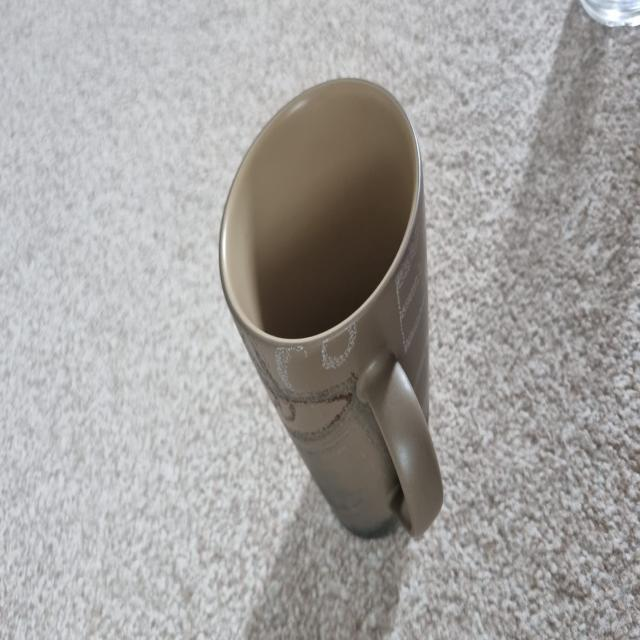Cup: (219, 80, 443, 537)
